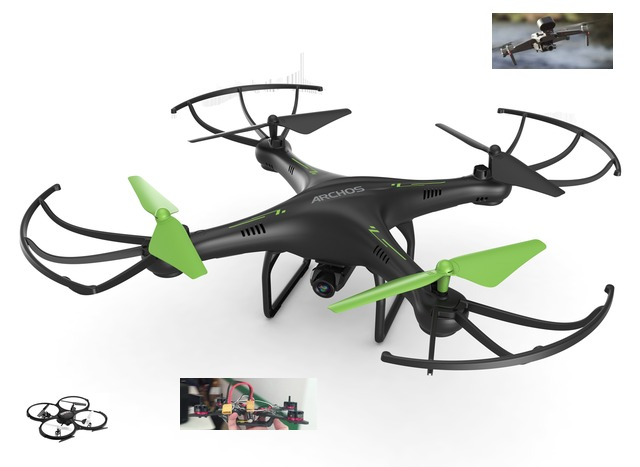drone: (16, 82, 622, 375), (180, 378, 317, 430), (492, 13, 613, 69), (25, 393, 109, 443)
